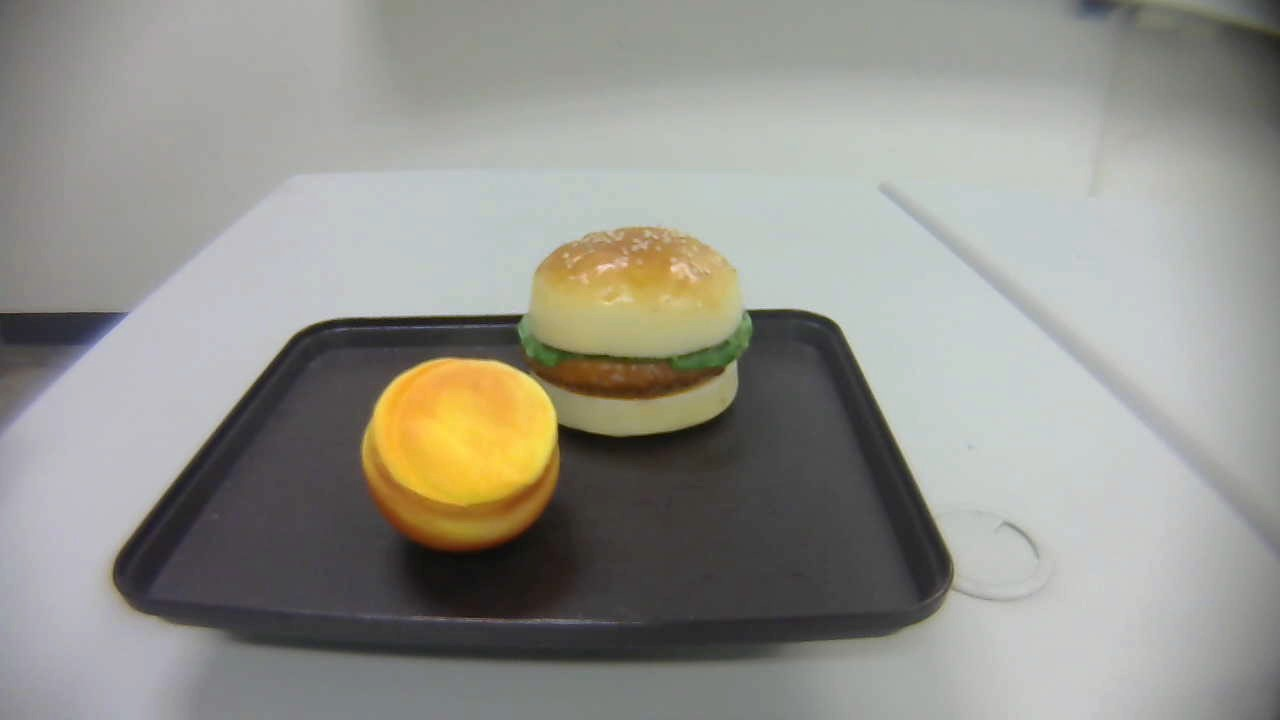bun: (361, 357, 562, 554)
hamburger: (517, 223, 751, 438)
